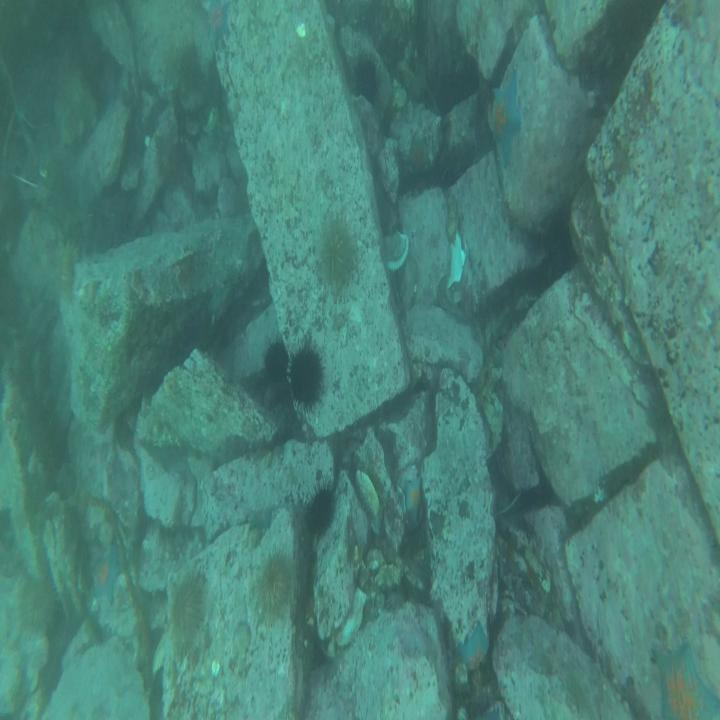echinus: (169, 582, 205, 650), (286, 344, 325, 406), (320, 226, 356, 288), (260, 553, 290, 621), (348, 52, 382, 98), (305, 492, 337, 532), (263, 341, 288, 382)
starfish: (651, 644, 720, 720), (489, 75, 526, 166), (86, 546, 122, 605), (460, 626, 489, 668), (404, 468, 424, 527), (206, 9, 234, 50)
